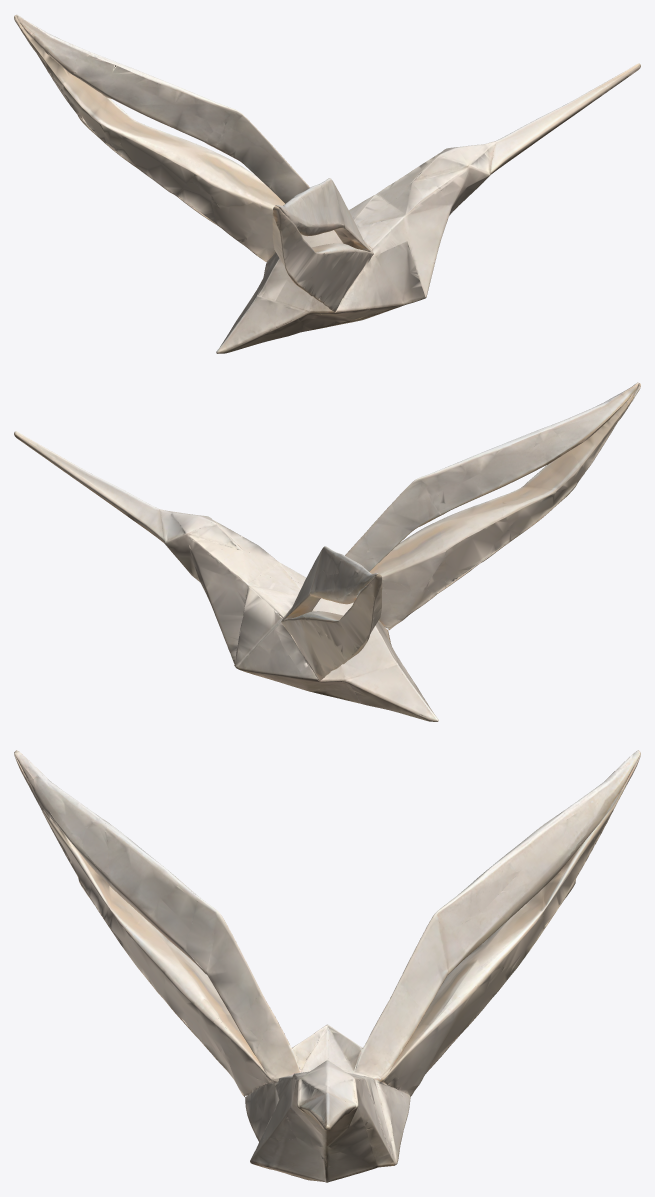
File: godwit.glb
3 views of the same model, one above another, from view 1: azimuth 30°, elevation 25°; view 2: azimuth 150°, elevation 25°; view 3: azimuth 270°, elevation 25° (orthographic). The views are drawn at different scales.
Visible parts, largest first — view 1: WingL, meshes[1], WingR; view 2: WingR, meshes[1], WingL; view 3: WingL, WingR, meshes[1].
Boxes of the visible parts, x1,y1,x2,y2 form: WingL: (14,14,309,261); meshes[1]: (216,63,640,353); WingR: (272,178,373,312); WingR: (345,382,640,630); meshes[1]: (14,431,438,721); WingL: (281,546,382,680); WingL: (353,750,640,1096); WingR: (14,750,301,1097); meshes[1]: (245,1024,410,1182).
Bounding box in the file's own units: 0.9864 × 0.4959 × 0.9032.
4 materials, 4 textured.
